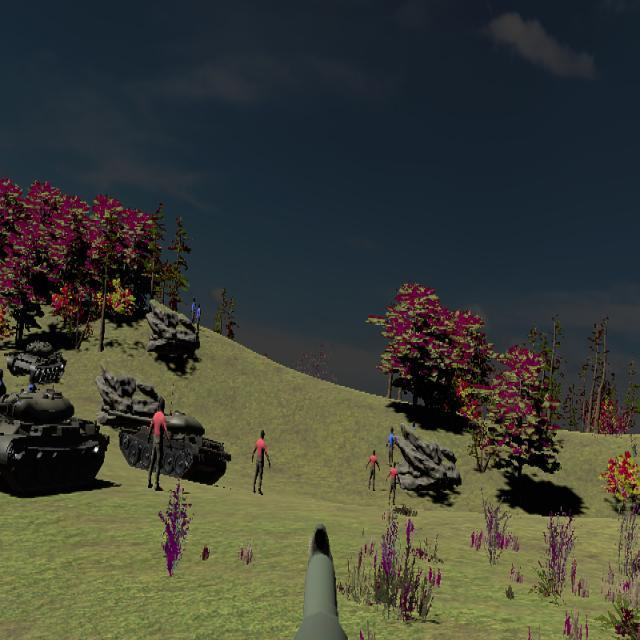Human: (147, 396, 171, 492), (251, 429, 271, 496), (385, 460, 401, 511), (365, 448, 380, 492), (386, 427, 397, 468)
Tank: (0, 388, 109, 494), (105, 408, 232, 483), (3, 340, 67, 383)
